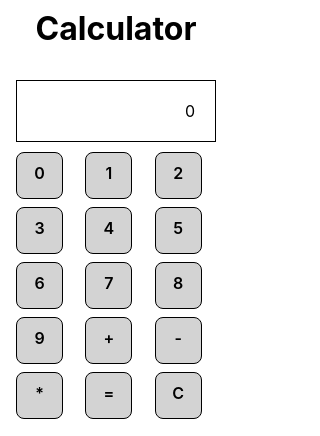
Test: Calculator › displays numbers when buttons are clicked
Step 1. Click the button "1" → (109, 175), box [85,152,132,199]
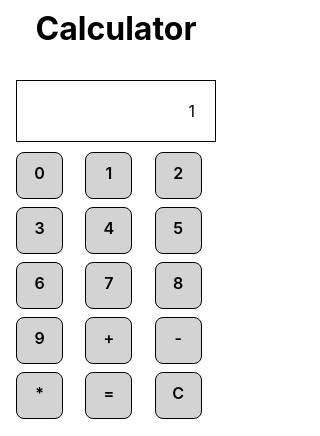
Expected: the text with test id "display" reads "1", [188,101,195,121]
Step 2. Click the button "2" → (178, 175), box [155,152,202,199]
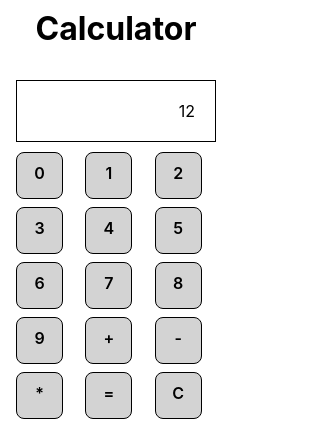
Expected: the text with test id "display" reads "12", [179,101,195,121]
